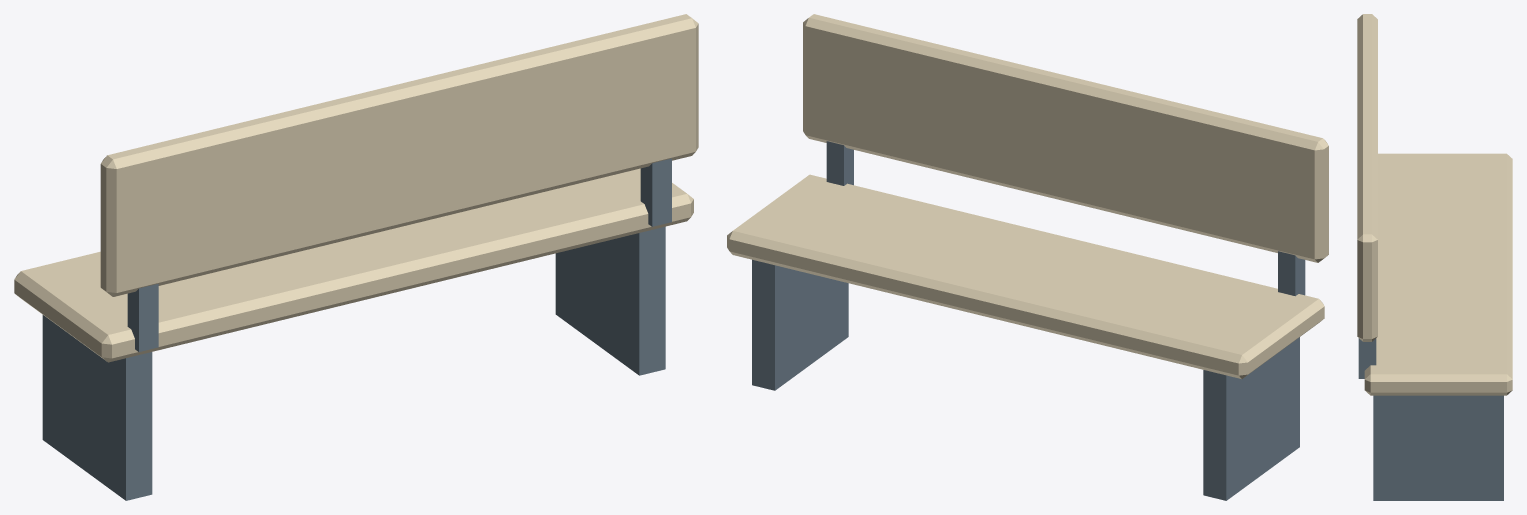
File: City_Bench.fbx
3 views of the same model, side by side, from view 1: azimuth 30°, elevation 25°; view 2: azimuth 150°, elevation 25°; view 3: azimuth 270°, elevation 25° (orthographic). The views are drawn at different scales.
Visible parts, largest first — view 1: City_Bench; view 2: City_Bench; view 3: City_Bench.
Part boxes in pixels (x1=…): City_Bench: x1=14, y1=14, x2=698, y2=500; City_Bench: x1=727, y1=14, x2=1328, y2=500; City_Bench: x1=1357, y1=14, x2=1512, y2=500.
Size of the model in its own units: 1.8 by 0.525 by 1.02.
